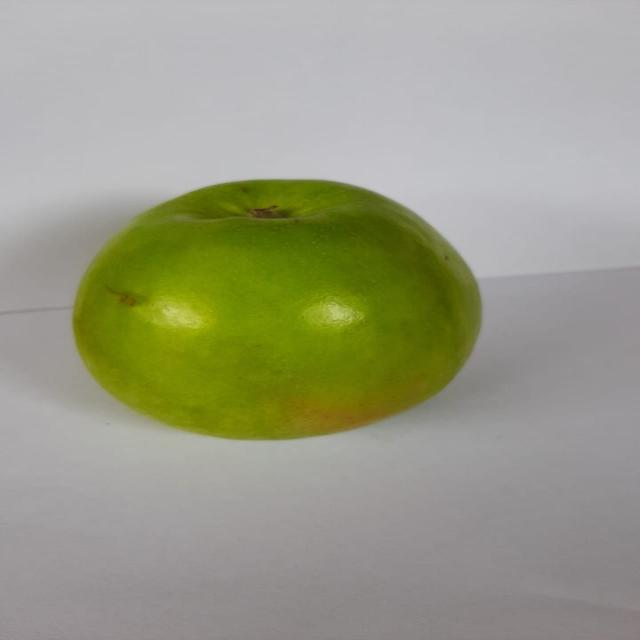50-_ripeness: (70, 172, 484, 448)
